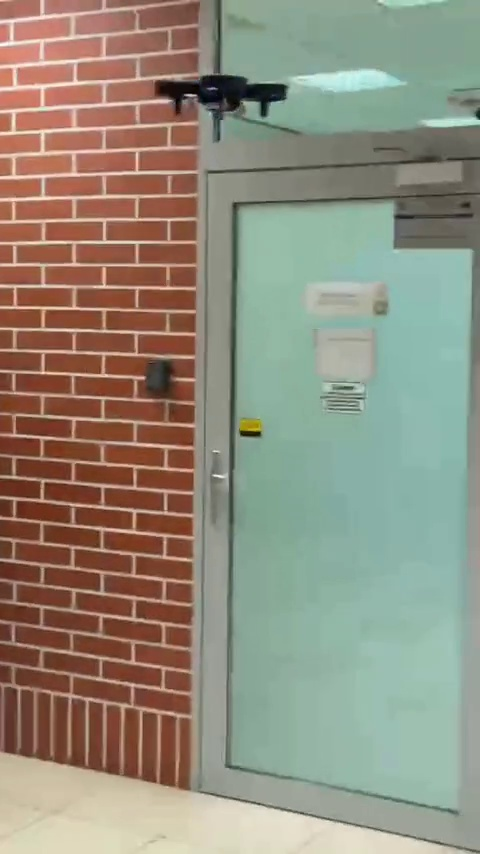drone: (153, 75, 292, 114)
